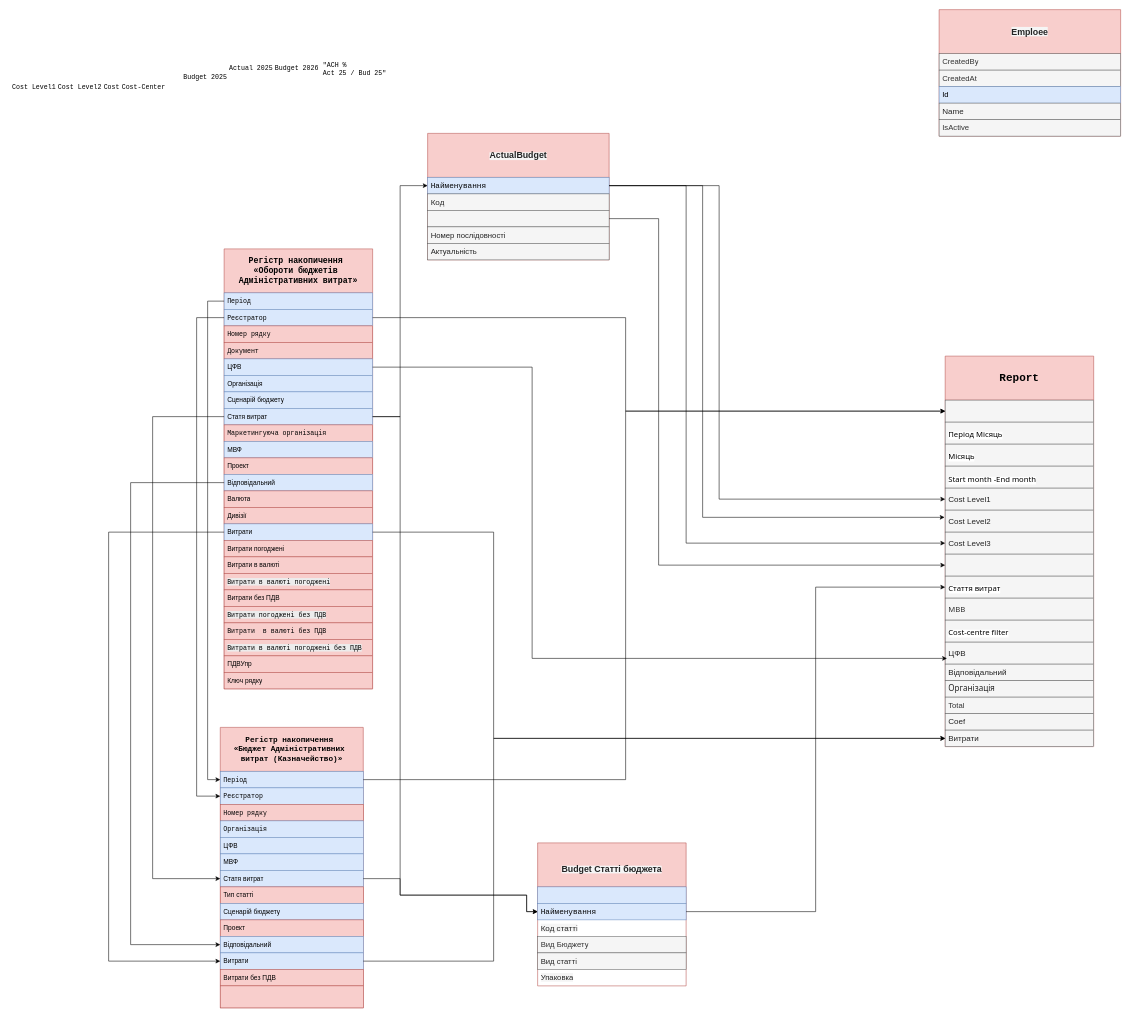
The diagram is 1130 pixels wide and 1018 high, and some of its shapes have lost their labels. Here are the shapes that lost their labels. From the top down, the centre of each, then its label:
At pixel 518 218: "Назва англі ською".
At pixel 1019 411: "Тип даних".
At pixel 1019 565: "Cost".
At pixel 291 996: "ПДВ".
